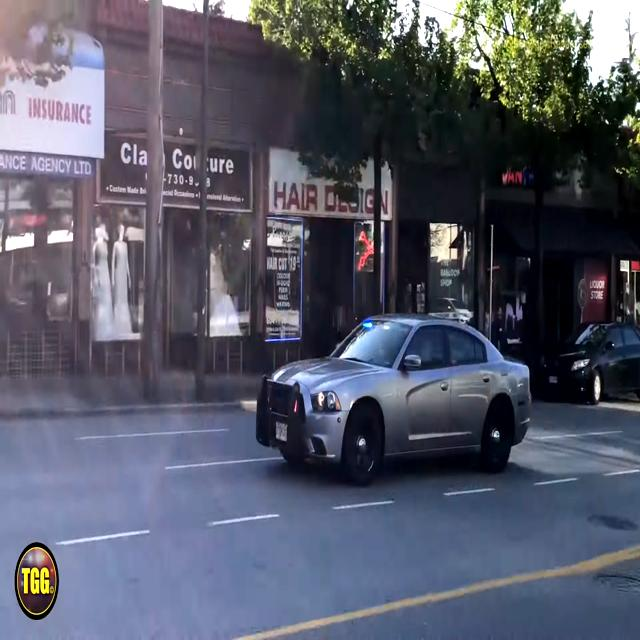emergency-vehicles: (244, 299, 539, 500)
